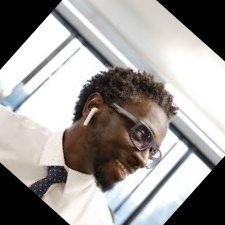earphone: (71, 89, 109, 129)
